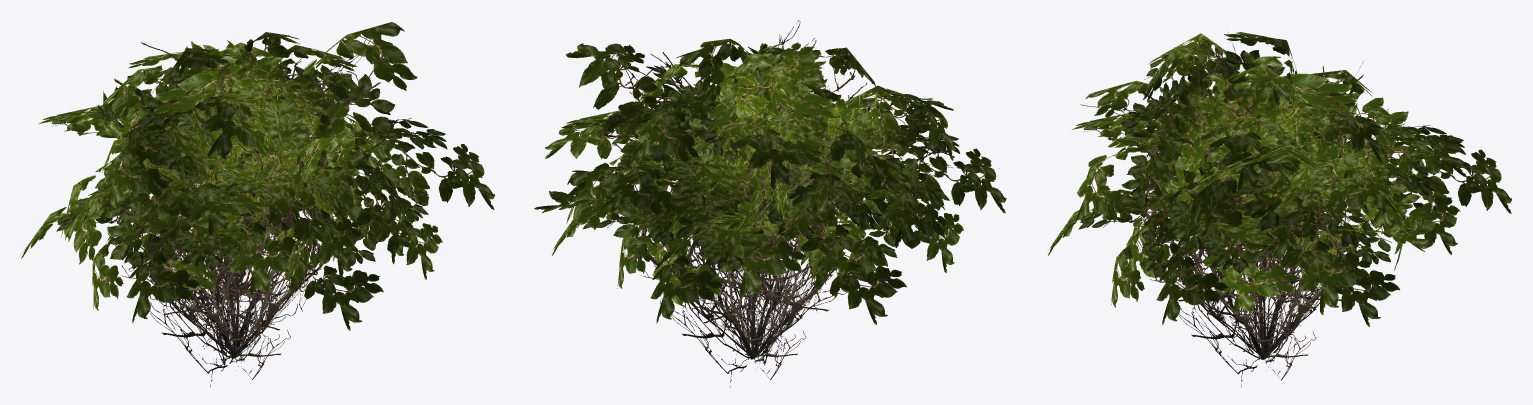
File: bush-low.glb
3 renders of one model, left to right at view 1: azimuth 30°, elevation 25°; view 2: azimuth 150°, elevation 25°; view 3: azimuth 270°, elevation 25°, orthographic. The views are drawn at different scales.
Visible parts, largest first — view 1: bush_05; view 2: bush_05; view 3: bush_05.
Boxes of the visible parts, left/top/right/bottom form: bush_05: left=21, top=22, right=494, bottom=386; bush_05: left=534, top=20, right=1006, bottom=387; bush_05: left=1048, top=32, right=1511, bottom=386.
Bounding box in the file's own units: 1.31 × 1.09 × 1.31.
1 material, 1 textured.
